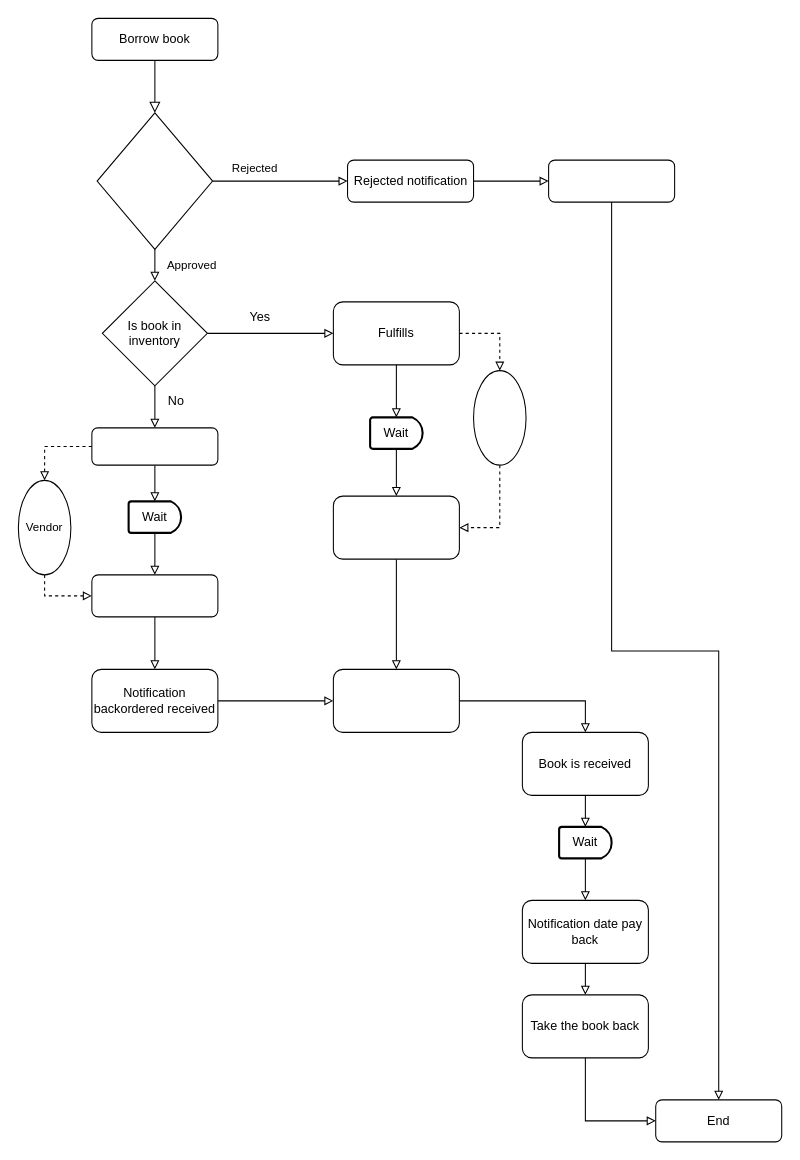
The diagram is 800 pixels wide and 1160 high, and some of its shapes have lost their labels. Here are the shapes that lost their labels. From the top down, the box of each, then its label:
(96, 112, 213, 249): Does Librarian accept
(548, 159, 675, 202): Request cancel
(472, 370, 526, 465): Stock
(91, 427, 218, 465): Inform of backordered status
(332, 495, 459, 559): Inform completion
(91, 574, 218, 617): Receive backordered book
(332, 668, 459, 732): Delivery book
